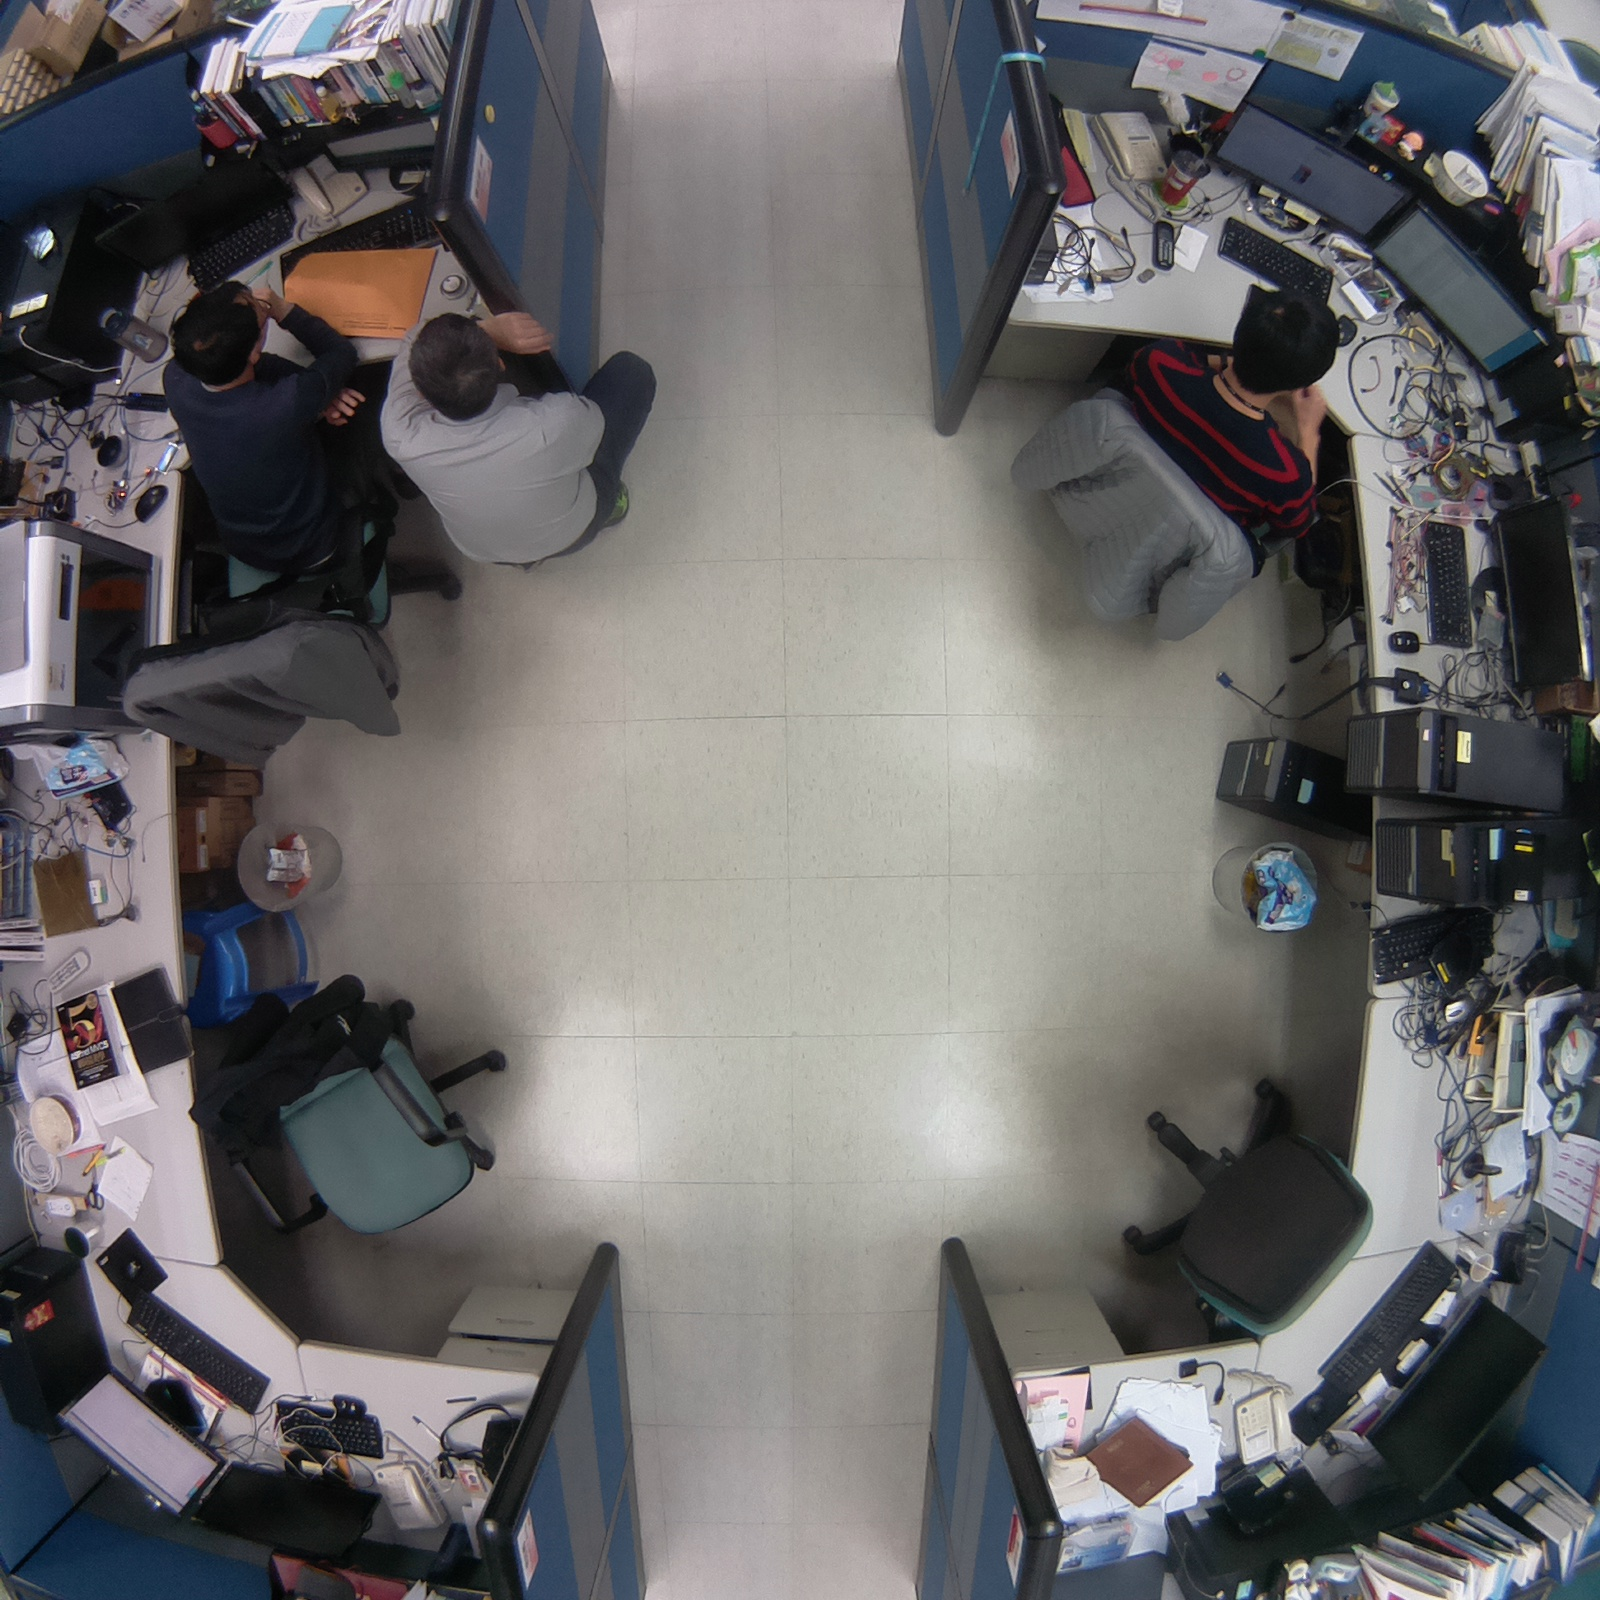chair: (183, 942, 535, 1263), (1083, 1050, 1391, 1350)
head: (1223, 270, 1346, 406), (397, 302, 517, 427), (163, 282, 280, 385)
sitting: (114, 277, 473, 747), (991, 258, 1336, 652)
standing: (364, 306, 661, 575)
